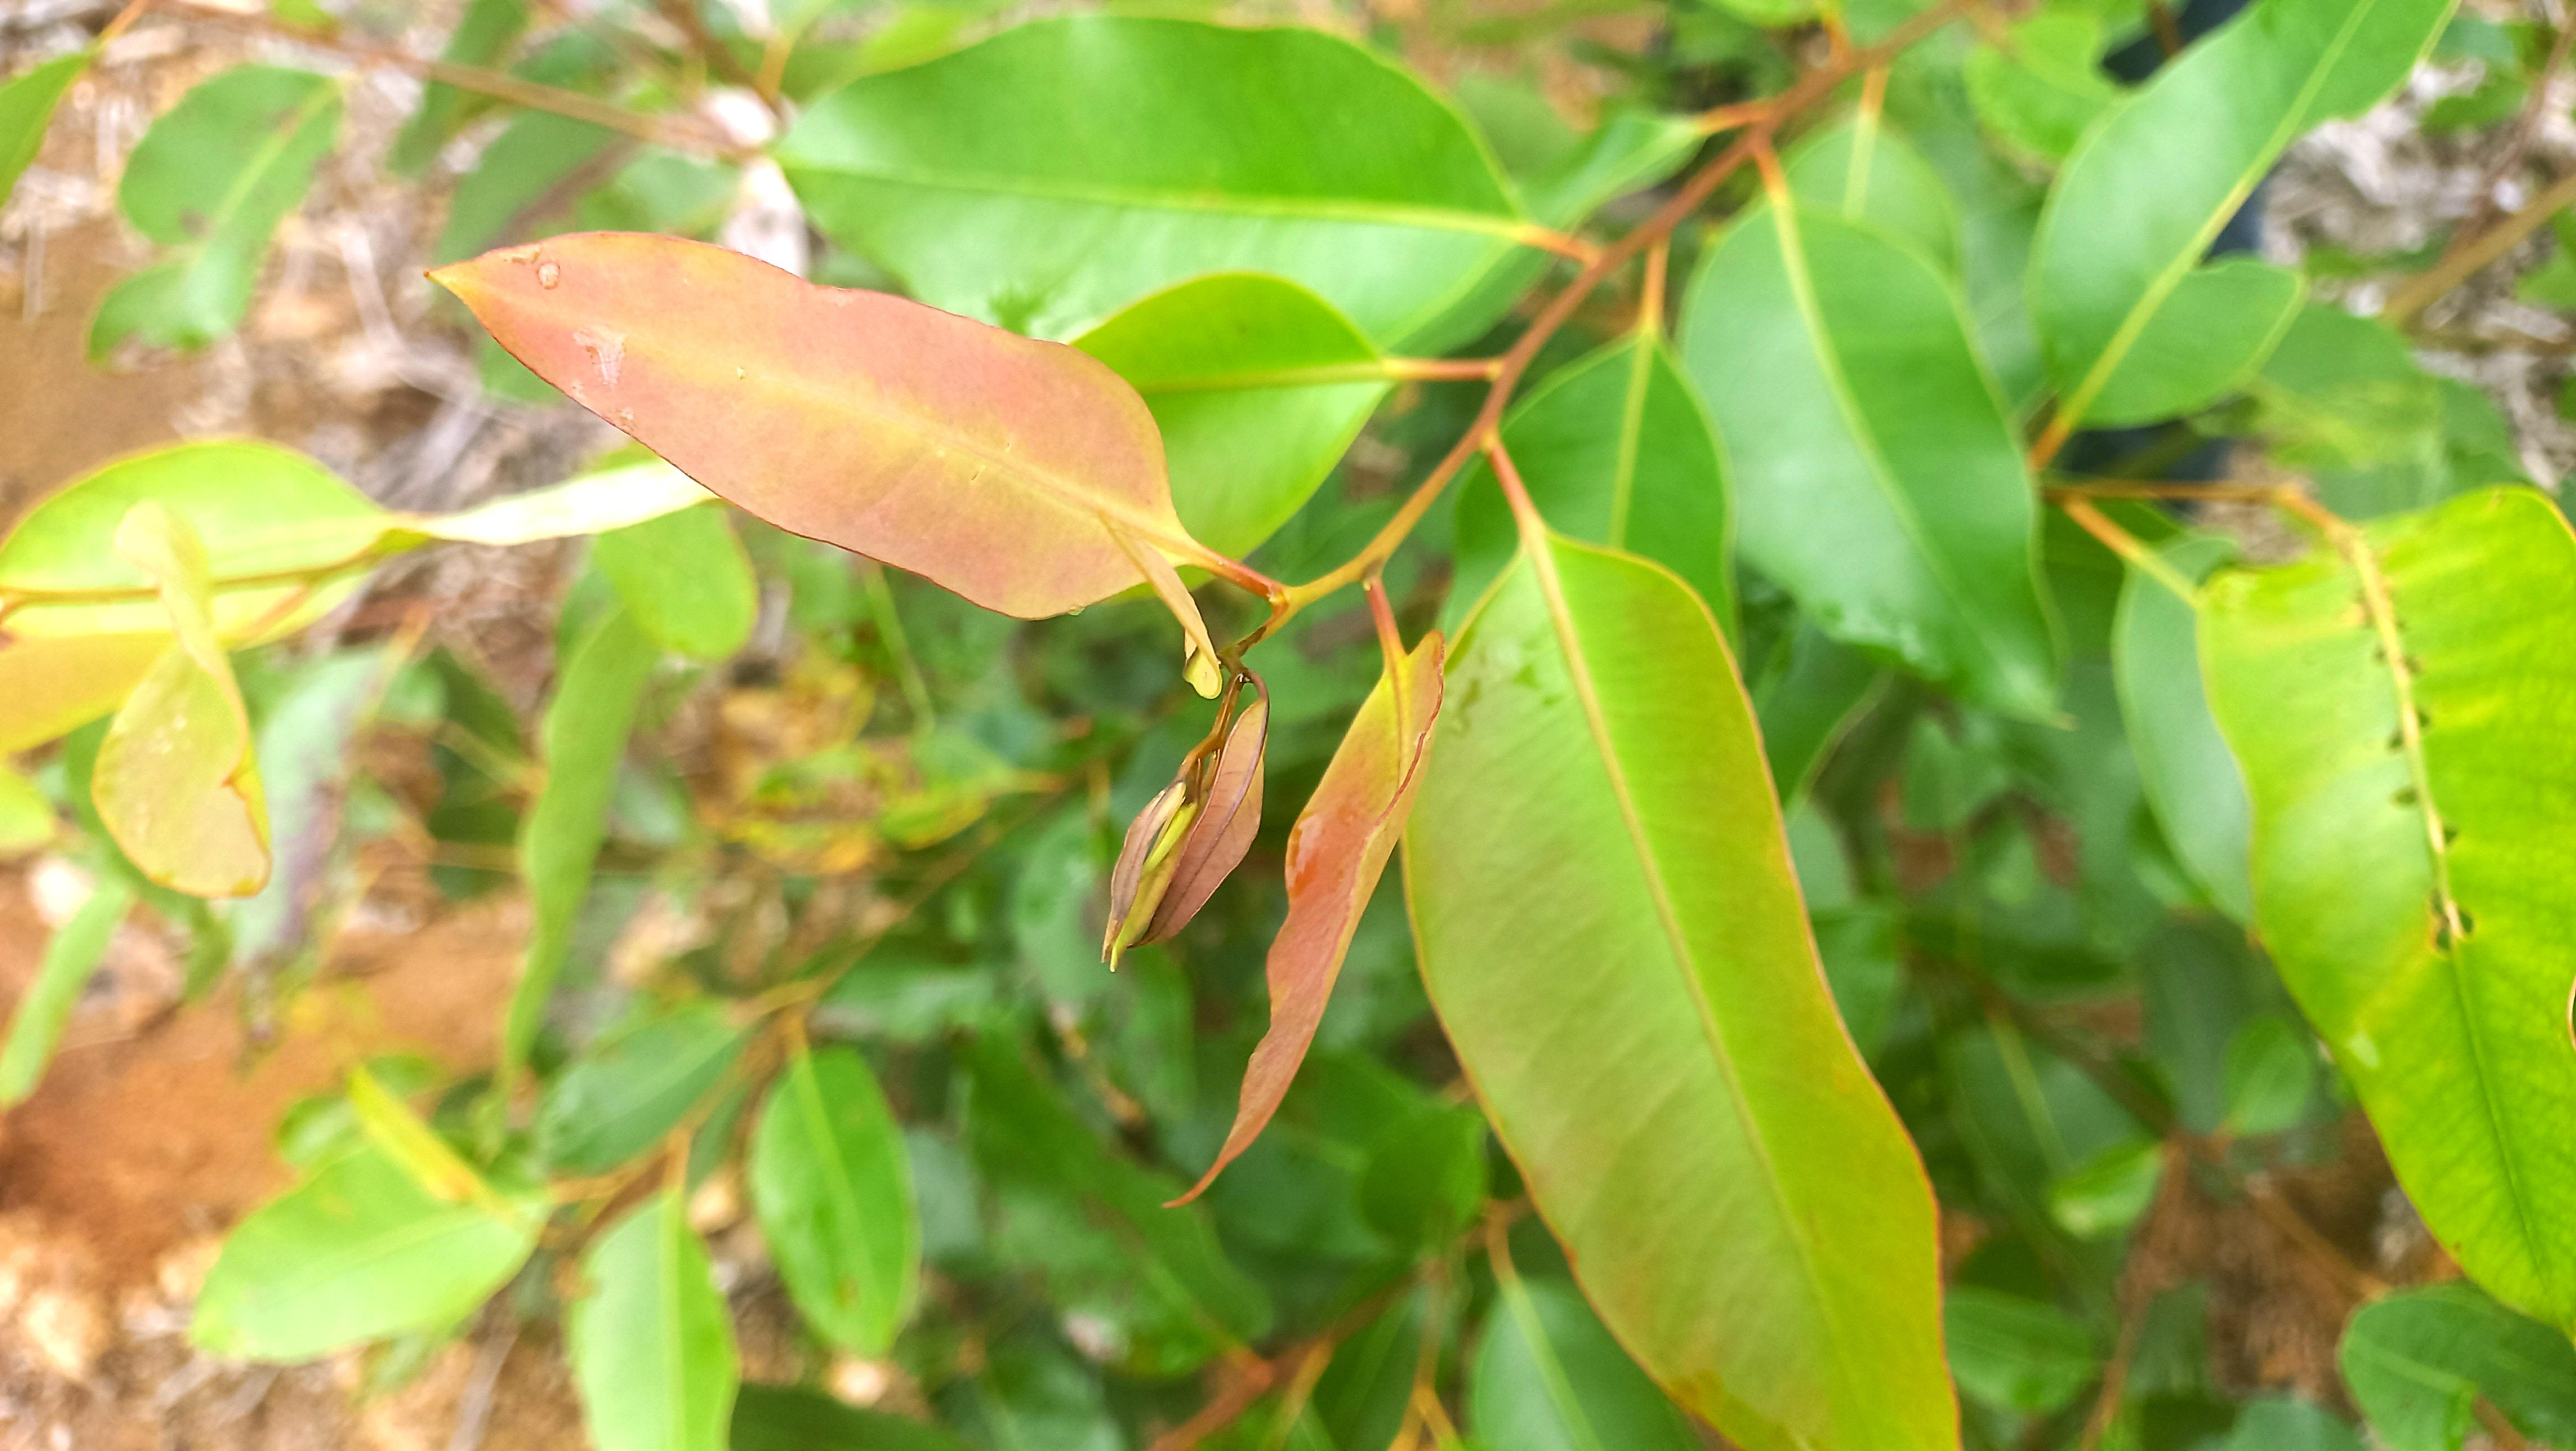Helopeltis-Withered Sprout: (1143, 685, 1274, 954), (1106, 694, 1226, 979)
